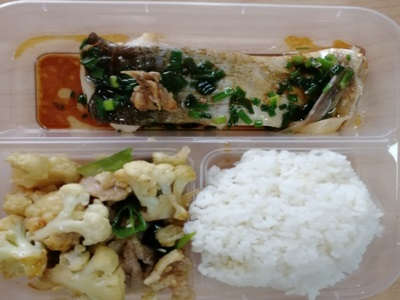cch: (8, 150, 182, 292)
rice: (207, 153, 371, 283)
yd: (80, 32, 363, 130)
